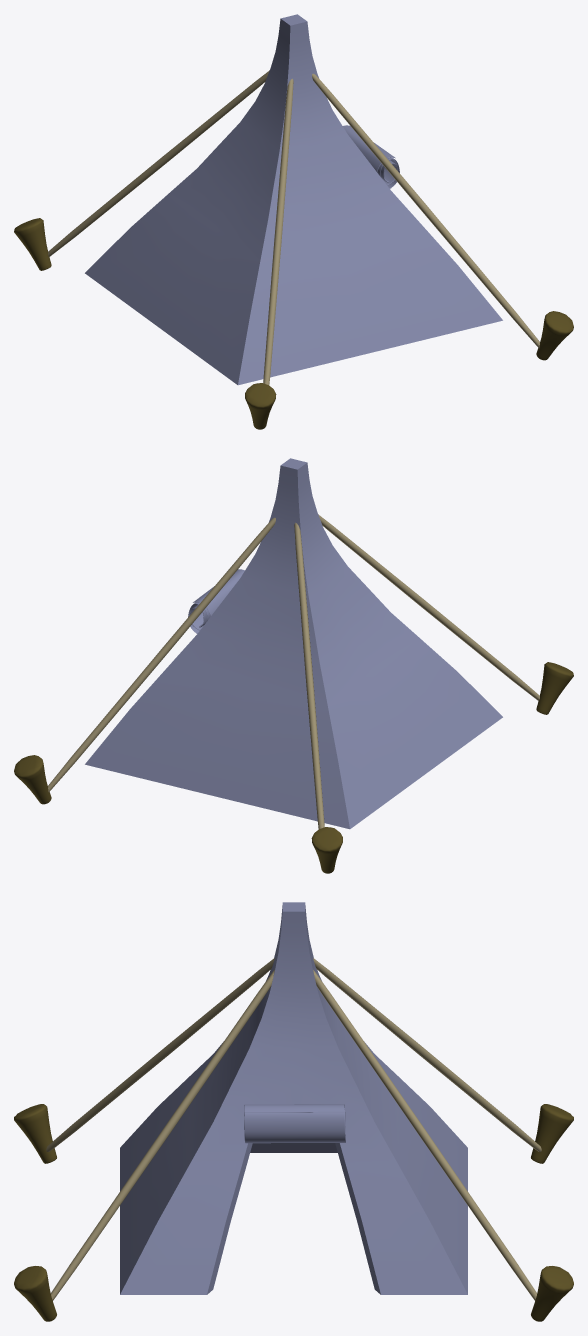
Rendered from tent.fbx.
3 views of the same model, one above another, from view 1: azimuth 30°, elevation 25°; view 2: azimuth 150°, elevation 25°; view 3: azimuth 270°, elevation 25° (orthographic). The views are drawn at different scales.
Visible parts, largest first — view 1: pCube1, pCylinder2, pCylinder1, Extrude; view 2: pCube1, pCylinder2, pCylinder1, Extrude; view 3: pCube1, pCylinder2, pCylinder1, Extrude.
Boxes of the visible parts, x1,y1,x2,y2 form: pCube1: (85, 14, 502, 385); pCylinder2: (48, 70, 539, 385); pCylinder1: (14, 218, 573, 429); Extrude: (343, 125, 399, 188); pCube1: (85, 458, 502, 829); pCylinder2: (48, 514, 539, 829); pCylinder1: (14, 662, 573, 873); Extrude: (188, 569, 244, 633); pCube1: (120, 902, 467, 1294); pCylinder2: (46, 958, 541, 1300); pCylinder1: (14, 1104, 573, 1321); Extrude: (244, 1104, 345, 1143).
Bounding box in the file's own units: 517 × 447 × 678.
